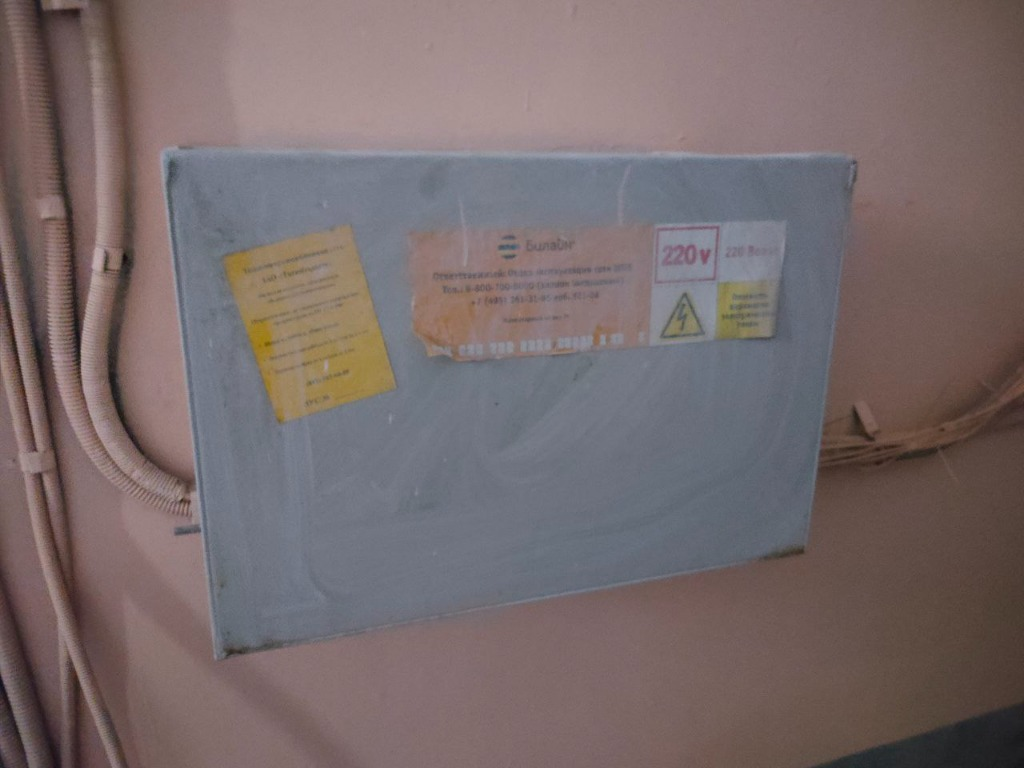sv-5: (152, 139, 865, 667)
